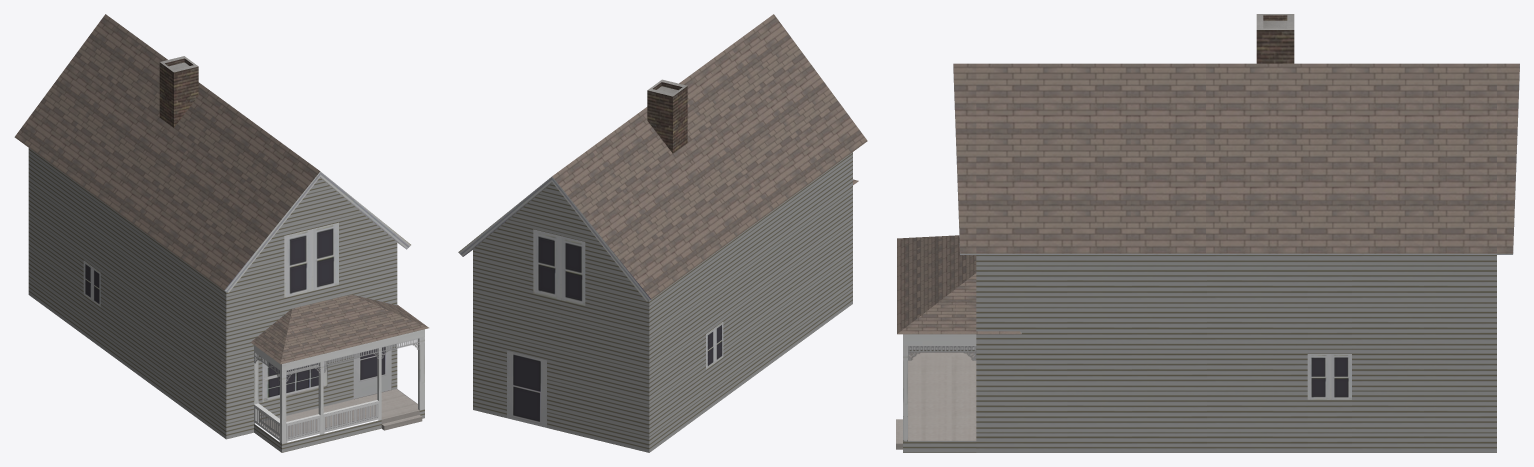
The model's file is small_midwestern_house_1.glb.
3 renders of one model, left to right at view 1: azimuth 30°, elevation 25°; view 2: azimuth 150°, elevation 25°; view 3: azimuth 270°, elevation 25°, orthographic. The views are drawn at different scales.
Parts seen in each view (by area): view 1: Object_2; view 2: Object_2; view 3: Object_2.
Part boxes in pixels (x1,y1,x2,y2): Object_2: (14, 14, 428, 452); Object_2: (458, 14, 867, 452); Object_2: (896, 14, 1519, 452).
Bounding box in the file's own units: 548 × 771 × 1198.
1 material, 1 textured.
